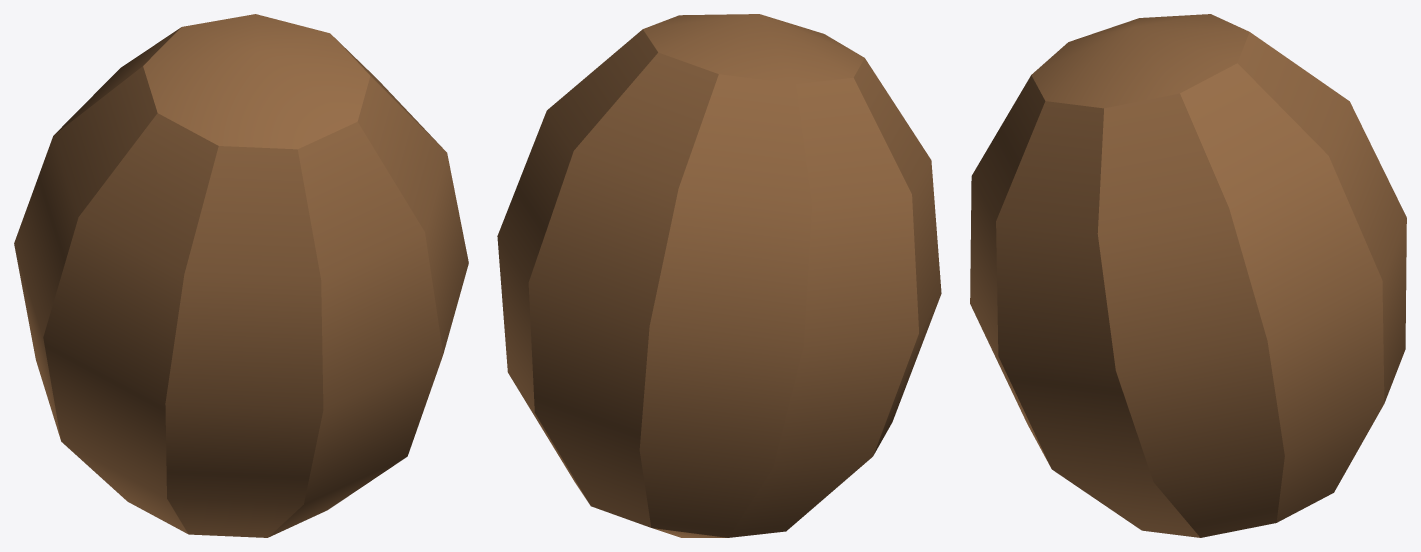
The model's file is coconut.glb.
3 views of the same model, side by side, from view 1: azimuth 30°, elevation 25°; view 2: azimuth 150°, elevation 25°; view 3: azimuth 270°, elevation 25° (orthographic). The views are drawn at different scales.
Visible parts, largest first — view 1: coconut; view 2: coconut; view 3: coconut.
Boxes of the visible parts, x1,y1,x2,y2 form: coconut: (14, 14, 468, 537); coconut: (497, 14, 941, 537); coconut: (970, 14, 1406, 537).
Size of the model in its own units: 0.2937 by 0.3571 by 0.2912.
Materials: 1 (1 with a texture image).
